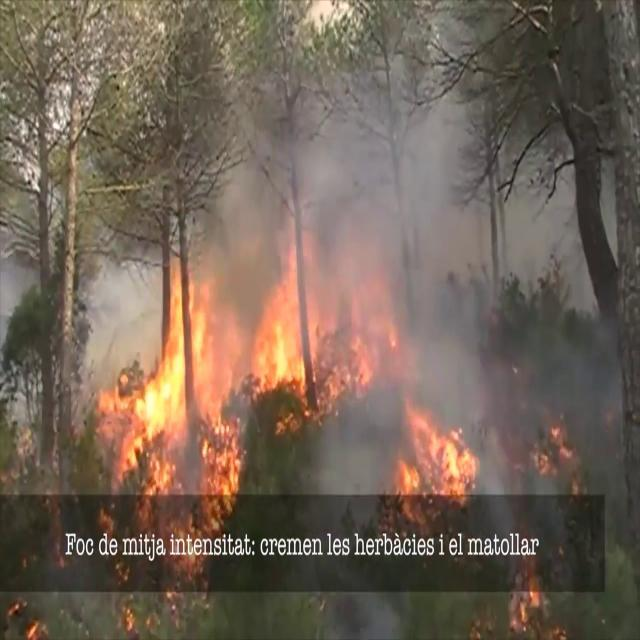Fire: (103, 252, 244, 498), (253, 238, 387, 414), (390, 391, 482, 504)
Smoke: (199, 46, 491, 306)
